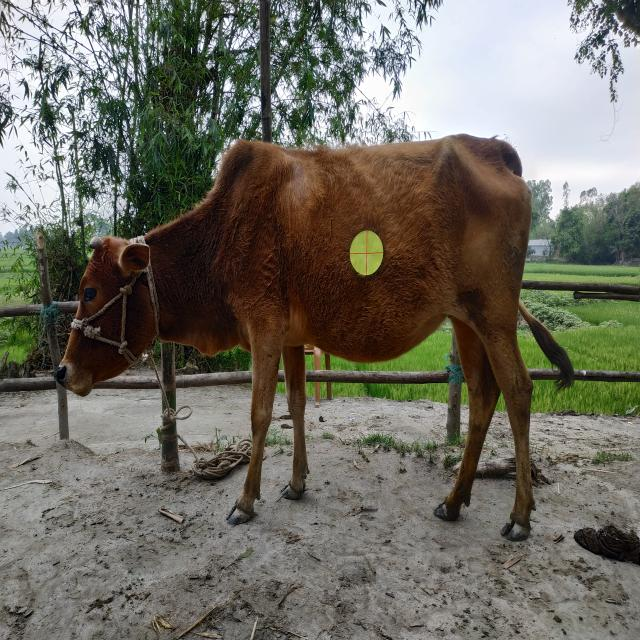badan_sapi: (222, 143, 528, 359)
sapi: (43, 107, 583, 582)
